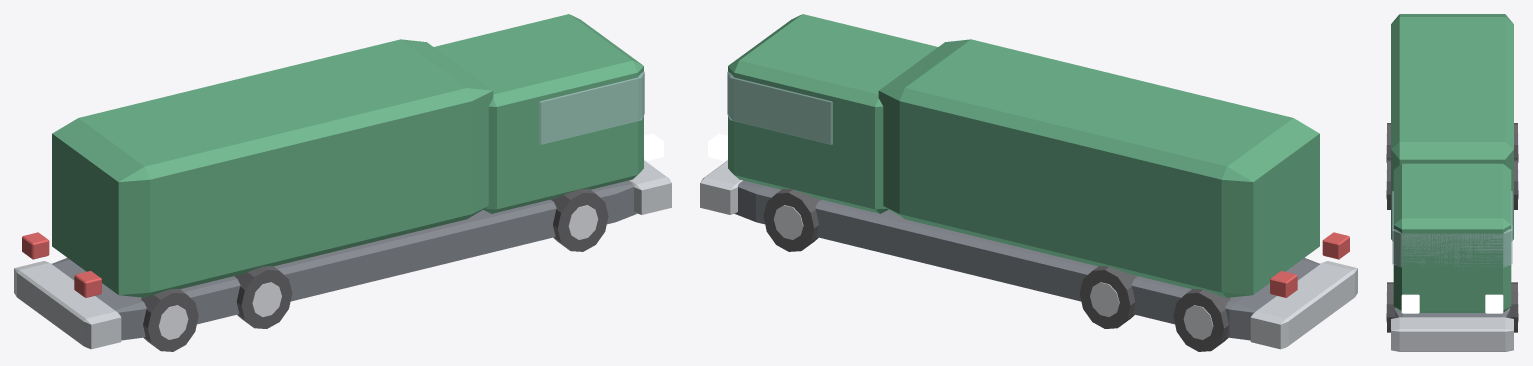
Rendered from b15_front_loader_refuse_truck.glb.
3 views of the same model, side by side, from view 1: azimuth 30°, elevation 25°; view 2: azimuth 150°, elevation 25°; view 3: azimuth 270°, elevation 25° (orthographic). The views are drawn at different scales.
Parts seen in each view (by area): view 1: b15_front_loader_refuse_truck; view 2: b15_front_loader_refuse_truck; view 3: b15_front_loader_refuse_truck.
Boxes of the visible parts, <box> form: b15_front_loader_refuse_truck: <box>14,14,671,351</box>; b15_front_loader_refuse_truck: <box>700,14,1357,351</box>; b15_front_loader_refuse_truck: <box>1386,14,1518,351</box>.
Bounding box in the file's own units: 11.98 × 3.61 × 2.94.
